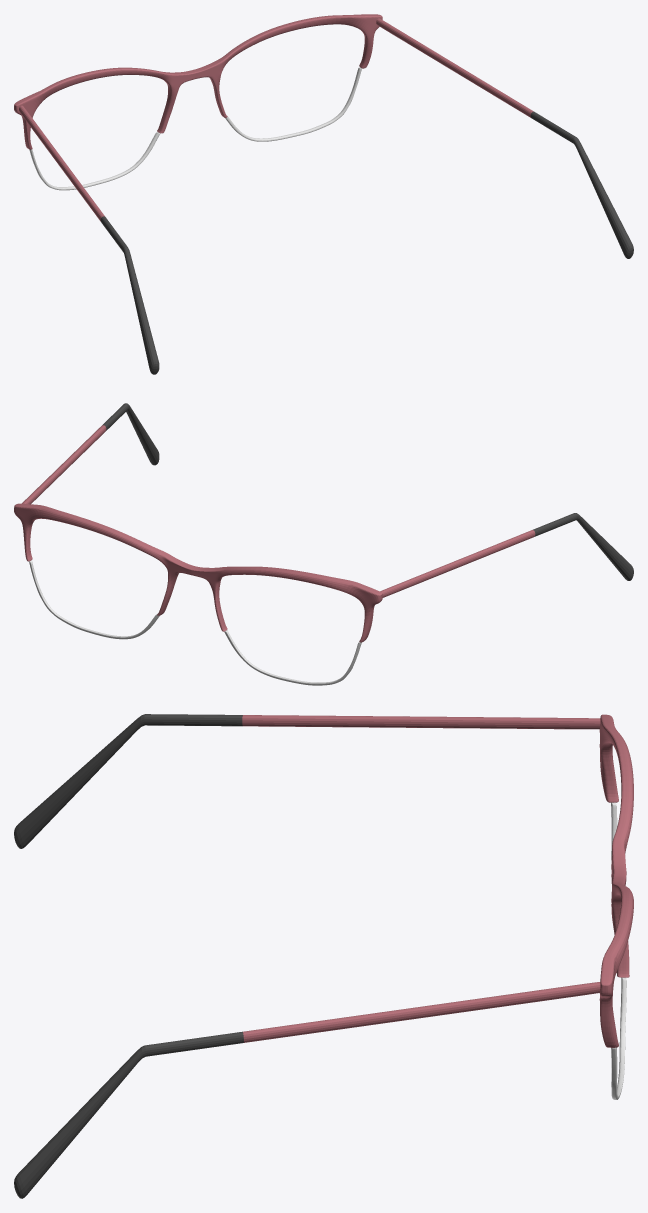
The model's file is semi_rimless.fbx.
The picture shows the model from 3 angles, top to bottom: view 1: azimuth 30°, elevation 25°; view 2: azimuth 150°, elevation 25°; view 3: azimuth 270°, elevation 25°; orthographic projection. The views are drawn at different scales.
Parts seen in each view (by area): view 1: Circle.000; view 2: Circle.000; view 3: Circle.000.
Boxes of the visible parts, box(x1,y1,x2,y2) form: Circle.000: box(14, 14, 633, 374); Circle.000: box(14, 403, 633, 685); Circle.000: box(14, 714, 633, 1198).
Bounding box in the file's own units: 17.18 × 4.2 × 12.64.
